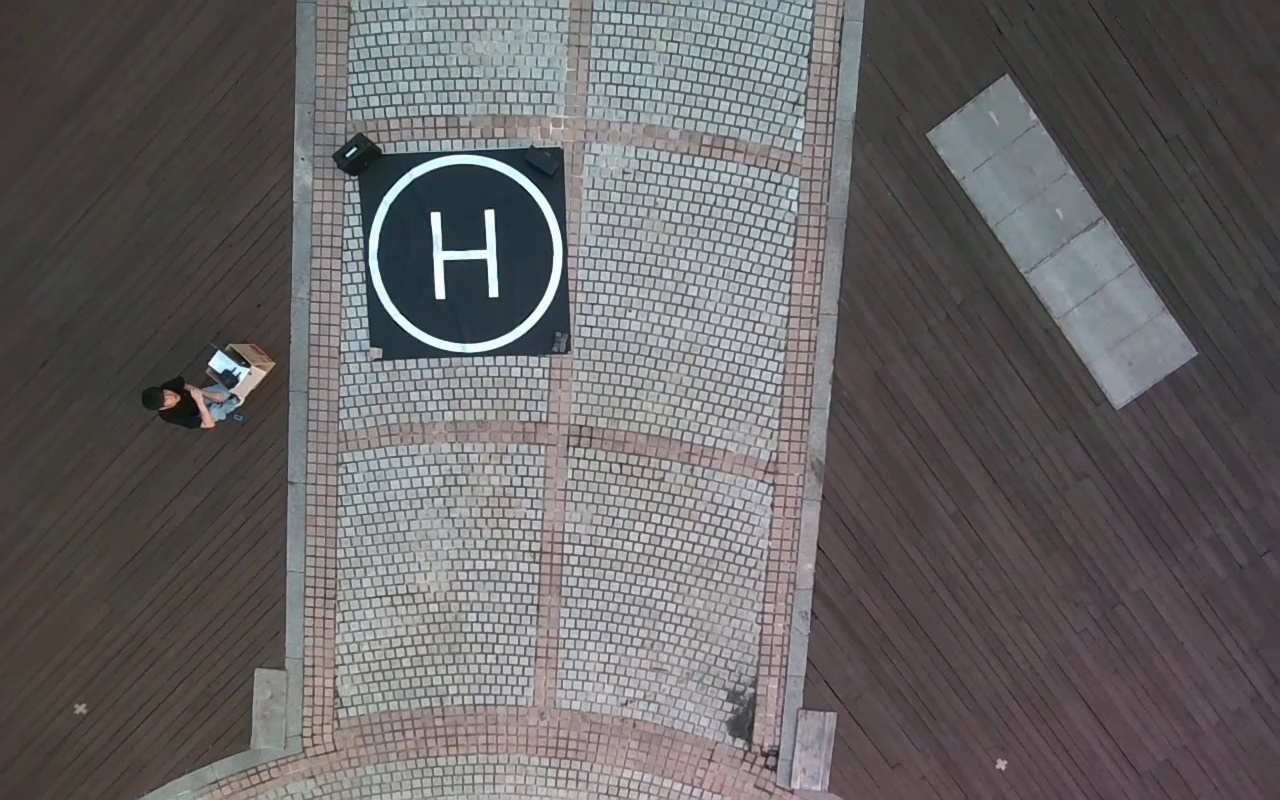H: (425, 208, 500, 300)
heliport: (366, 153, 567, 354)
